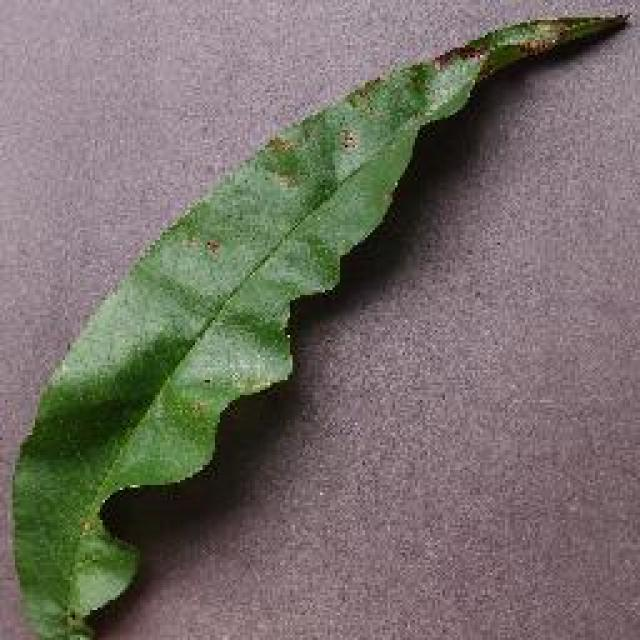Bacterial_spot: (193, 231, 235, 274)
